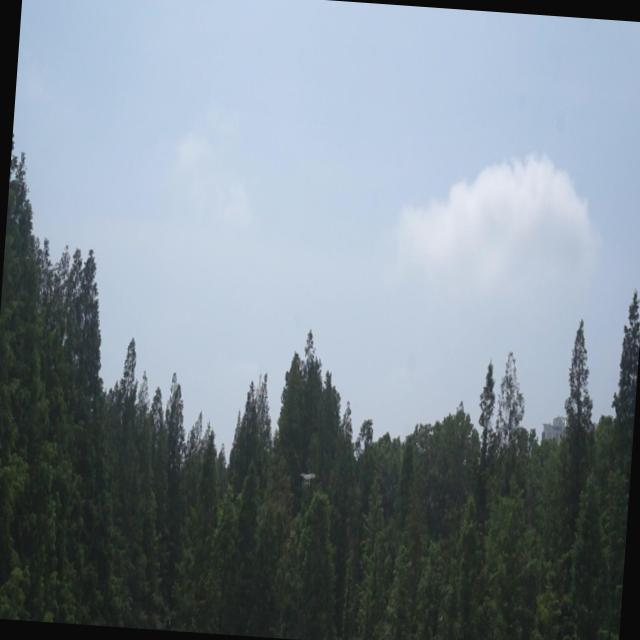drone: (299, 466, 316, 486)
